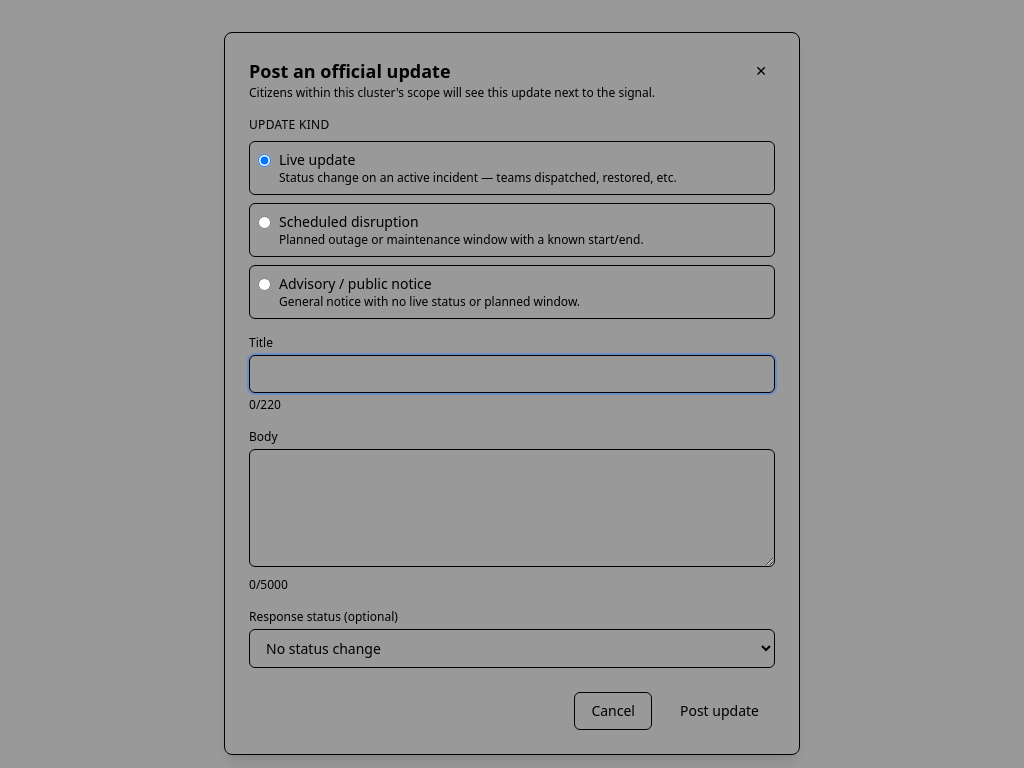
PostUpdateModal › surfaces a server error without closing the modal
The width and height of the screenshot is (1024, 768).
Step 1. Type "Teams dispatched" into the field labelled "Title" → (512, 374), box [249,355,775,393]
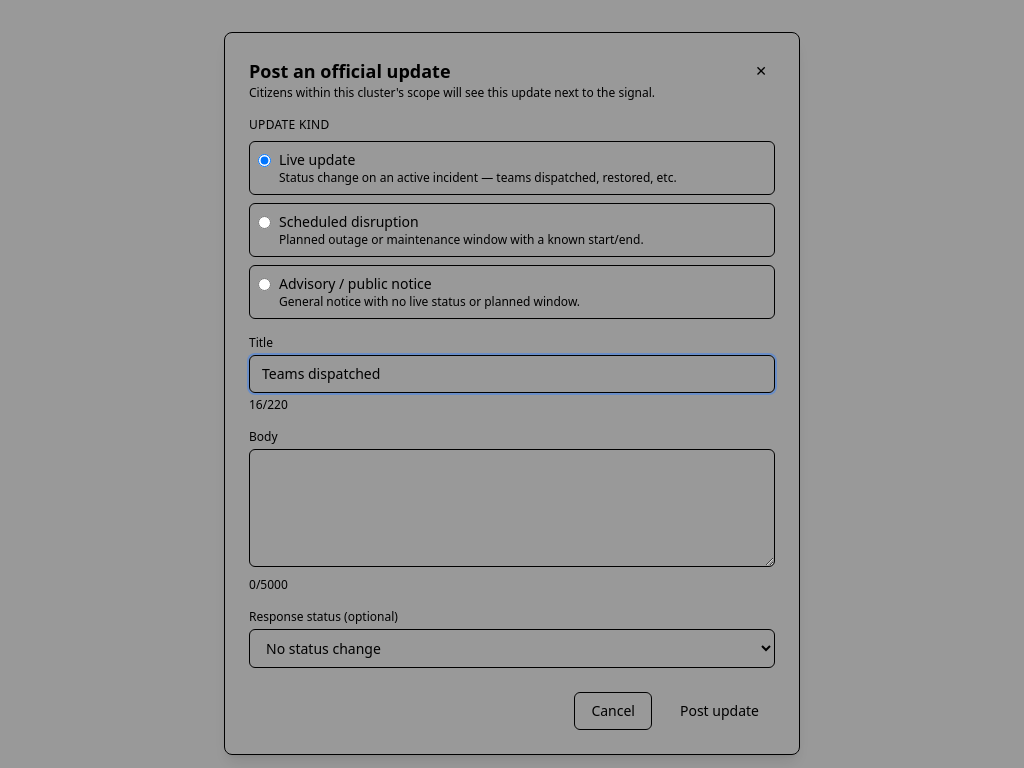
Step 2. Type "Crews are en route." into the text box labelled "Body" → (512, 508), box [249,449,775,567]
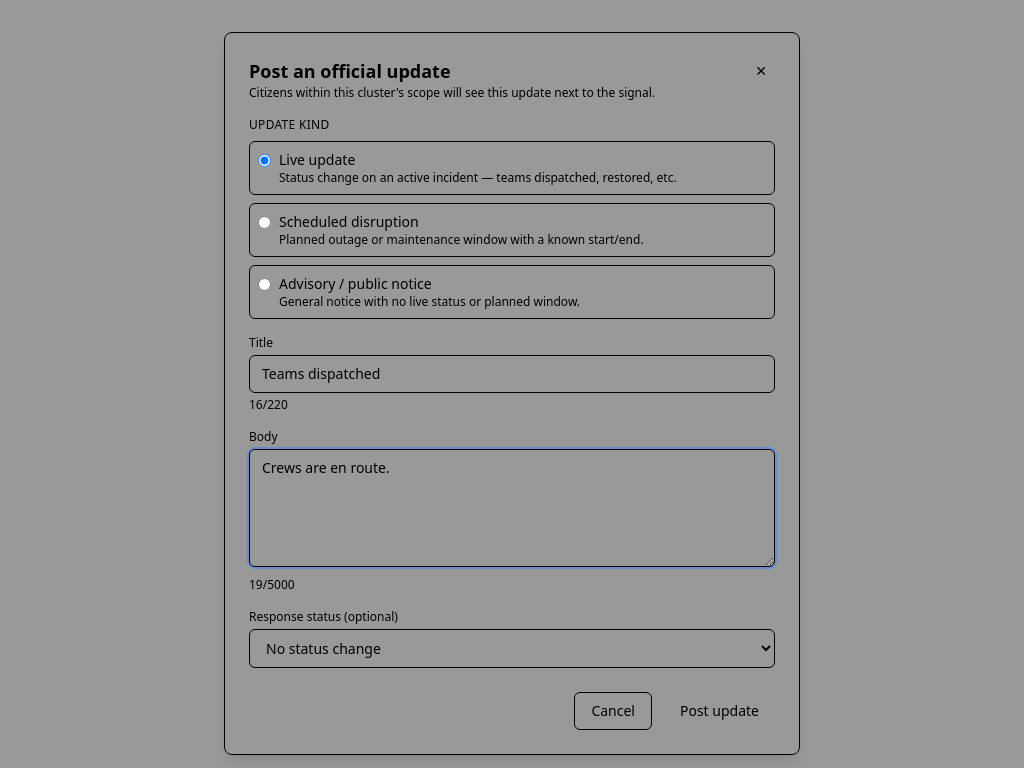
Step 3. Click the button "Post update" → (720, 711), box [664,693,775,729]
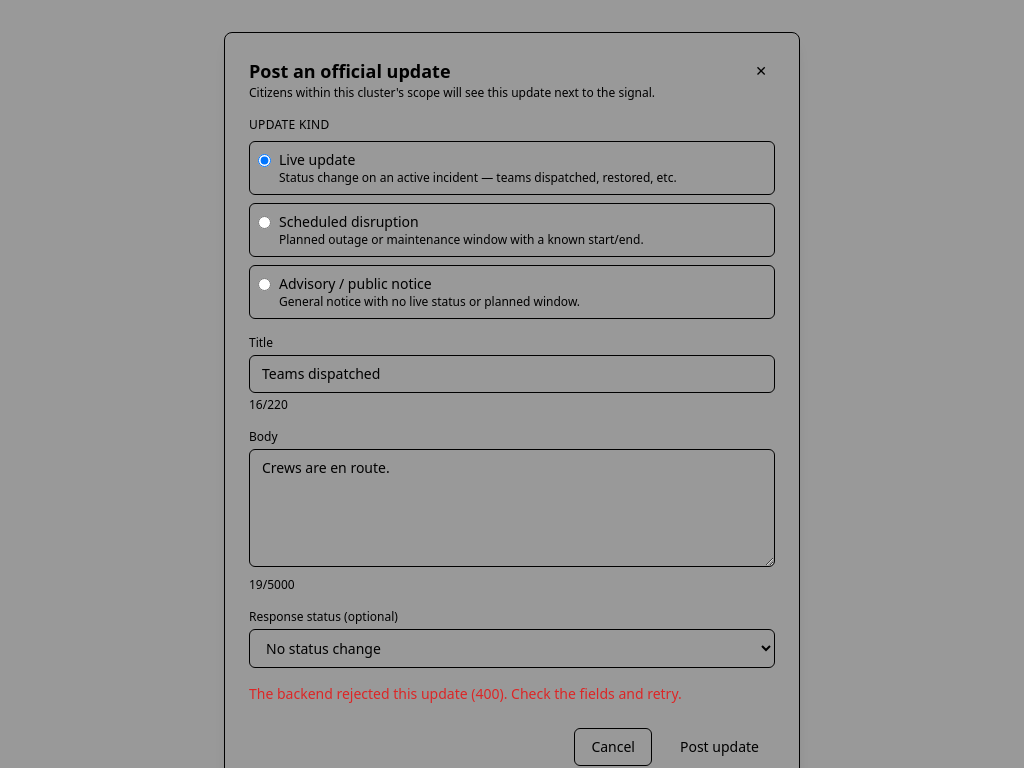
Check: the message shows "backend rejected this update", box [249,684,682,703]
